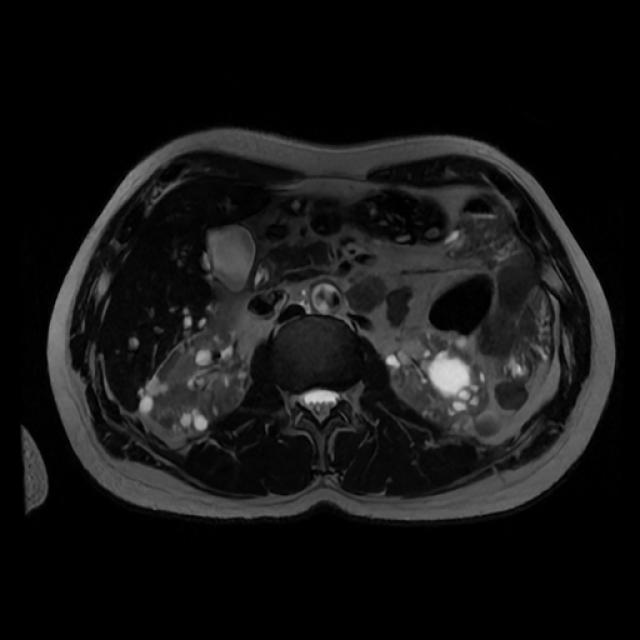sag: (137, 330, 253, 436)
sol: (383, 331, 504, 438)
